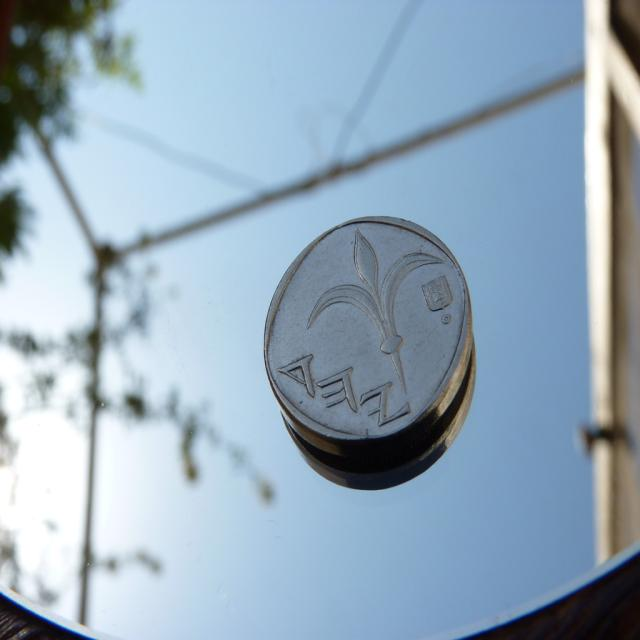Coin: (259, 213, 475, 459), (281, 375, 474, 489)
